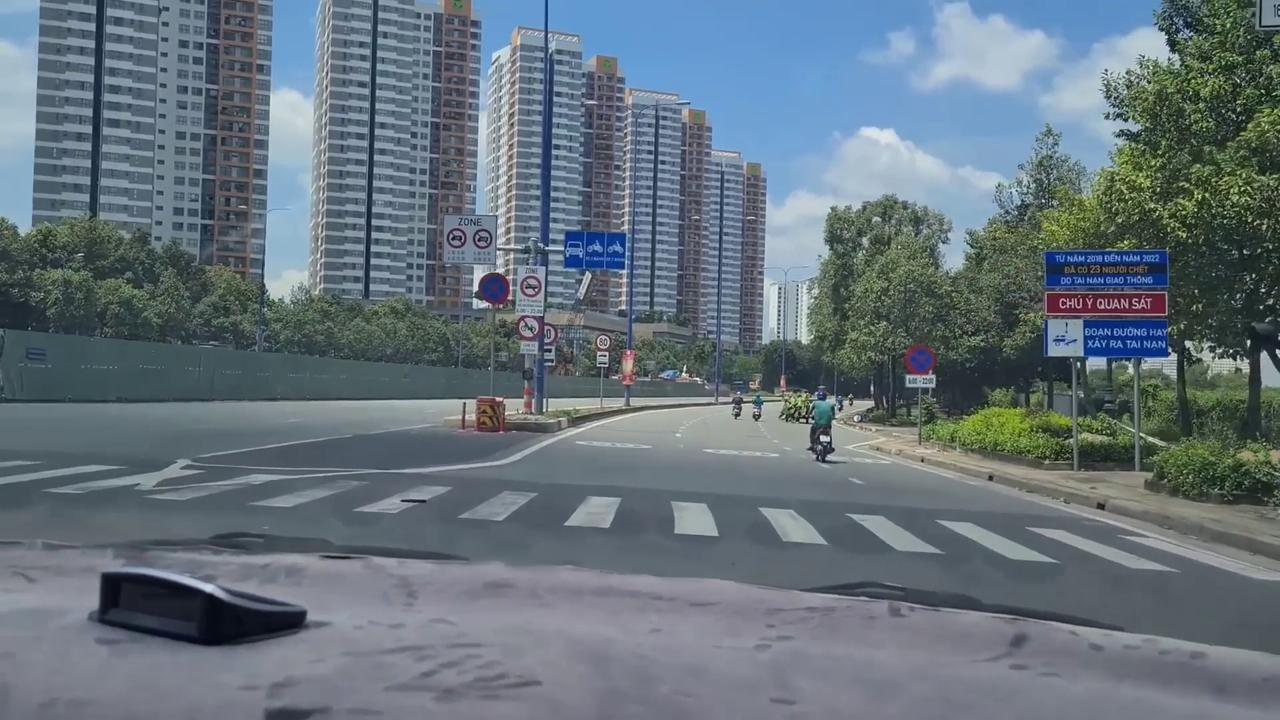Biển phụ: (906, 374, 938, 388), (538, 345, 556, 367), (596, 351, 610, 367)
Cấm cac phương tiện hoạt động trong khung giờ cố định: (441, 212, 499, 266), (516, 265, 544, 316)
Cấm dừng - Cấm đỗ: (478, 270, 511, 305), (905, 342, 936, 375)
Cấm xe máy: (516, 314, 544, 341)
Giới hạn tốc độ 80Km/h: (594, 332, 612, 352)
Khác: (1040, 245, 1171, 360)
Làn đường cho từng xe: (562, 229, 627, 272)
